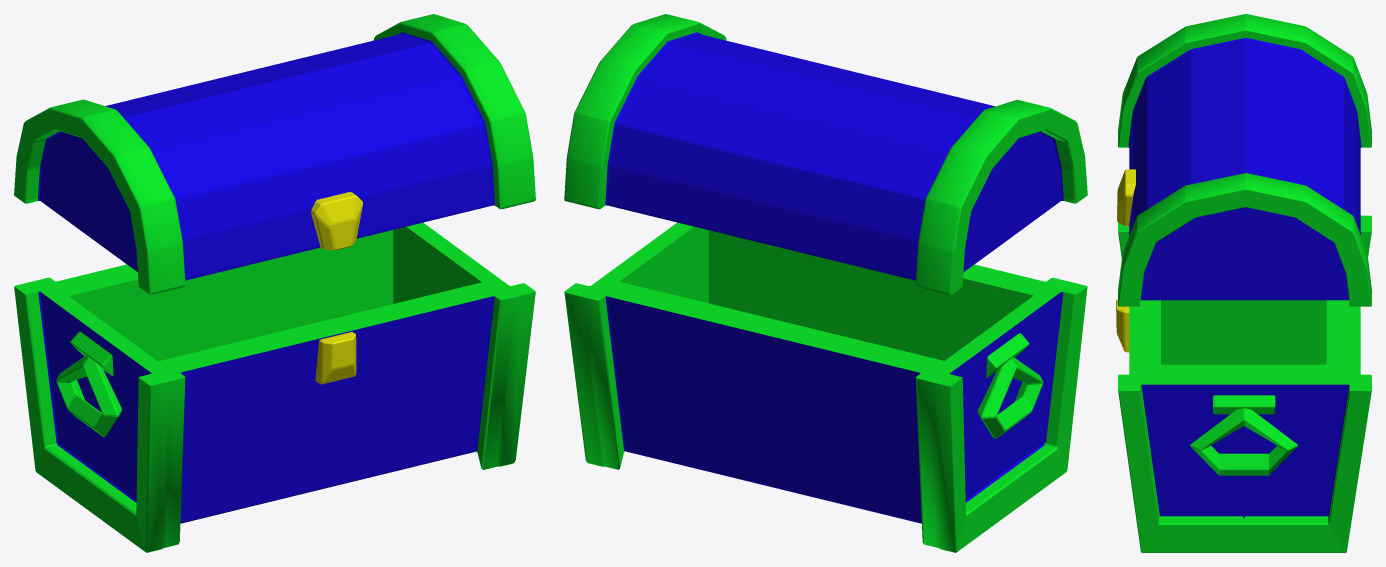
The model's file is SM_ChestRevised.fbx.
The picture shows the model from 3 angles, left to right: view 1: azimuth 30°, elevation 25°; view 2: azimuth 150°, elevation 25°; view 3: azimuth 270°, elevation 25°; orthographic projection. The views are drawn at different scales.
Parts seen in each view (by area): view 1: LeftBar, ChestBase_Top; view 2: LeftBar, ChestBase_Top; view 3: ChestBase_Top, LeftBar.
Boxes of the visible parts, x1,y1,x2,y2 form: LeftBar: (14,222,535,552); ChestBase_Top: (14,14,535,294); LeftBar: (564,222,1087,552); ChestBase_Top: (564,14,1087,294); ChestBase_Top: (1117,14,1371,306); LeftBar: (1116,215,1371,552).
Bounding box in the file's own units: 202 × 196 × 123.
